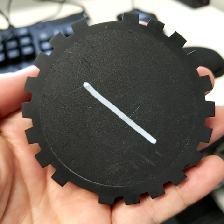gear: (19, 11, 217, 206)
missing: (50, 168, 115, 206), (70, 12, 142, 36)
